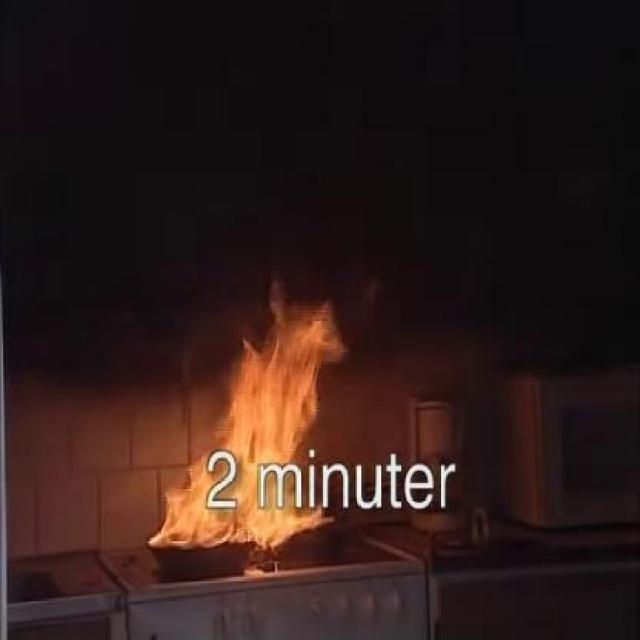fire: (168, 278, 346, 544)
